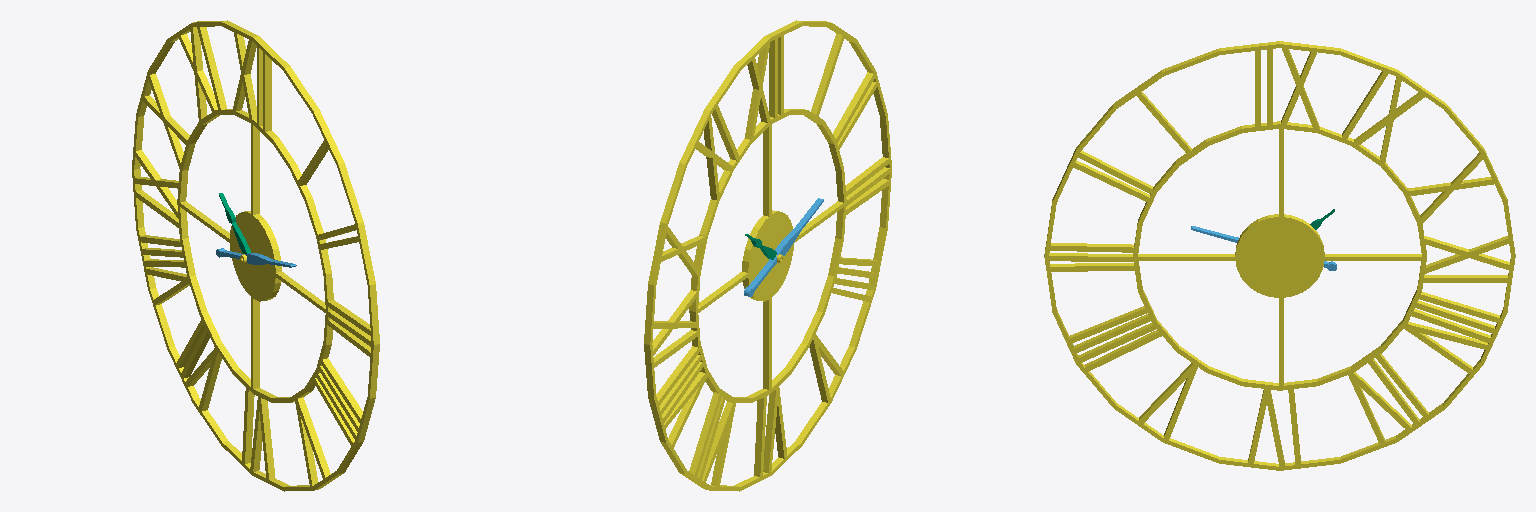
URDF robot description (partnet_57723d2d30d532c7adc5f5aafedb1c38):
<?xml version="1.0" ?>
<robot name="partnet_57723d2d30d532c7adc5f5aafedb1c38">
	<link name="base"/>
	<link name="link_0">
		<visual name="hand-4">
			<origin xyz="-0.027964500000000003 -0.014625499999999958 0"/>
			<geometry>
				<mesh filename="textured_objs/original-2.obj"/>
			</geometry>
		</visual>
		<collision>
			<origin xyz="-0.027964500000000003 -0.014625499999999958 0"/>
			<geometry>
				<mesh filename="textured_objs/original-2.obj"/>
			</geometry>
		</collision>
	</link>
	<joint name="joint_0" type="continuous">
		<origin xyz="0.027964500000000003 0.014625499999999958 0"/>
		<axis xyz="0 0 1"/>
		<child link="link_0"/>
		<parent link="link_2"/>
	</joint>
	<link name="link_1">
		<visual name="hand-5">
			<origin xyz="-0.027964500000000003 -0.014625499999999958 0"/>
			<geometry>
				<mesh filename="textured_objs/original-1.obj"/>
			</geometry>
		</visual>
		<collision>
			<origin xyz="-0.027964500000000003 -0.014625499999999958 0"/>
			<geometry>
				<mesh filename="textured_objs/original-1.obj"/>
			</geometry>
		</collision>
	</link>
	<joint name="joint_1" type="continuous">
		<origin xyz="0.027964500000000003 0.014625499999999958 0"/>
		<axis xyz="0 0 1"/>
		<child link="link_1"/>
		<parent link="link_2"/>
	</joint>
	<link name="link_2">
		<visual name="surface-6">
			<origin xyz="0 0 0"/>
			<geometry>
				<mesh filename="textured_objs/original-3.obj"/>
			</geometry>
		</visual>
		<collision>
			<origin xyz="0 0 0"/>
			<geometry>
				<mesh filename="textured_objs/original-3.obj"/>
			</geometry>
		</collision>
	</link>
	<joint name="joint_2" type="fixed">
		<origin rpy="1.570796326794897 0 -1.570796326794897" xyz="0 0 0"/>
		<child link="link_2"/>
		<parent link="base"/>
	</joint>
</robot>

--- What the picture shows (computed from the rendered views, not written in the file) ---
The picture shows the robot from 3 angles, left to right: view 1: azimuth 30°, elevation 25°; view 2: azimuth 150°, elevation 25°; view 3: azimuth 270°, elevation 25°; orthographic projection.
Robot: partnet_57723d2d30d532c7adc5f5aafedb1c38 — 4 links, 3 joints (2 continuous, 1 fixed); root link base; default pose: every joint at zero.
Visible links, largest first — view 1: link_2, link_0; view 2: link_2, link_0; view 3: link_2.
Boxes of the visible links, box(x1,y1,x2,y2) form: link_2: box(132, 20, 379, 491); link_0: box(216, 248, 296, 267); link_2: box(644, 20, 891, 491); link_0: box(744, 198, 823, 296); link_2: box(1044, 41, 1515, 470).
Bounding box of the posed robot: 0.078 × 1.94 × 1.94 m (x, y, z).
Meshes: 3 distinct files referenced, 3 mesh visuals loaded (3 OBJ).
